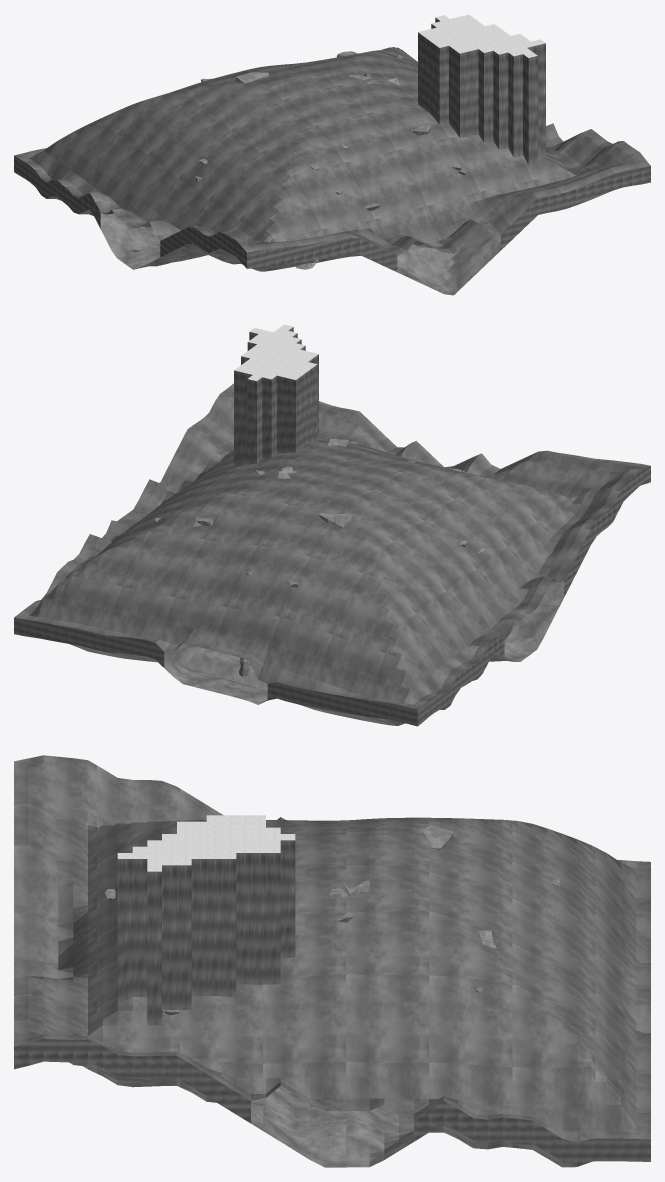
3 renders of one model, top to bottom at view 1: azimuth 30°, elevation 25°; view 2: azimuth 150°, elevation 25°; view 3: azimuth 270°, elevation 25°, orthographic. The views are drawn at different scales.
Visible parts, largest first — view 1: CavernVault, CavernShaft, CavernWalls, CavernFloor, CavernSkyCap, CavernStalactites; view 2: CavernVault, CavernWalls, CavernShaft, CavernFloor, CavernSkyCap, CavernStalactites; view 3: CavernVault, CavernShaft, CavernWalls, CavernFloor, CavernSkyCap, CavernStalactites.
Part boxes in pixels (left/top/right/bottom): CavernVault: left=14, top=47, right=650, bottom=255; CavernShaft: left=418, top=17, right=545, bottom=164; CavernWalls: left=14, top=156, right=650, bottom=271; CavernFloor: left=47, top=196, right=500, bottom=295; CavernSkyCap: left=418, top=14, right=545, bottom=57; CavernStalactites: left=195, top=51, right=465, bottom=210; CavernVault: left=14, top=383, right=650, bottom=709; CavernWalls: left=14, top=466, right=650, bottom=726; CavernShaft: left=234, top=327, right=318, bottom=466; CavernFloor: left=69, top=581, right=564, bottom=725; CavernSkyCap: left=234, top=324, right=318, bottom=381; CavernStalactites: left=154, top=441, right=485, bottom=587; CavernVault: left=14, top=755, right=650, bottom=1141; CavernShaft: left=117, top=840, right=295, bottom=1025; CavernWalls: left=14, top=1039, right=650, bottom=1164; CavernFloor: left=70, top=1062, right=592, bottom=1167; CavernSkyCap: left=117, top=815, right=295, bottom=871; CavernStalactites: left=105, top=825, right=559, bottom=1015.
Size of the model in its own units: 92 by 47.39 by 92.
Materials: 6 (6 with a texture image).
